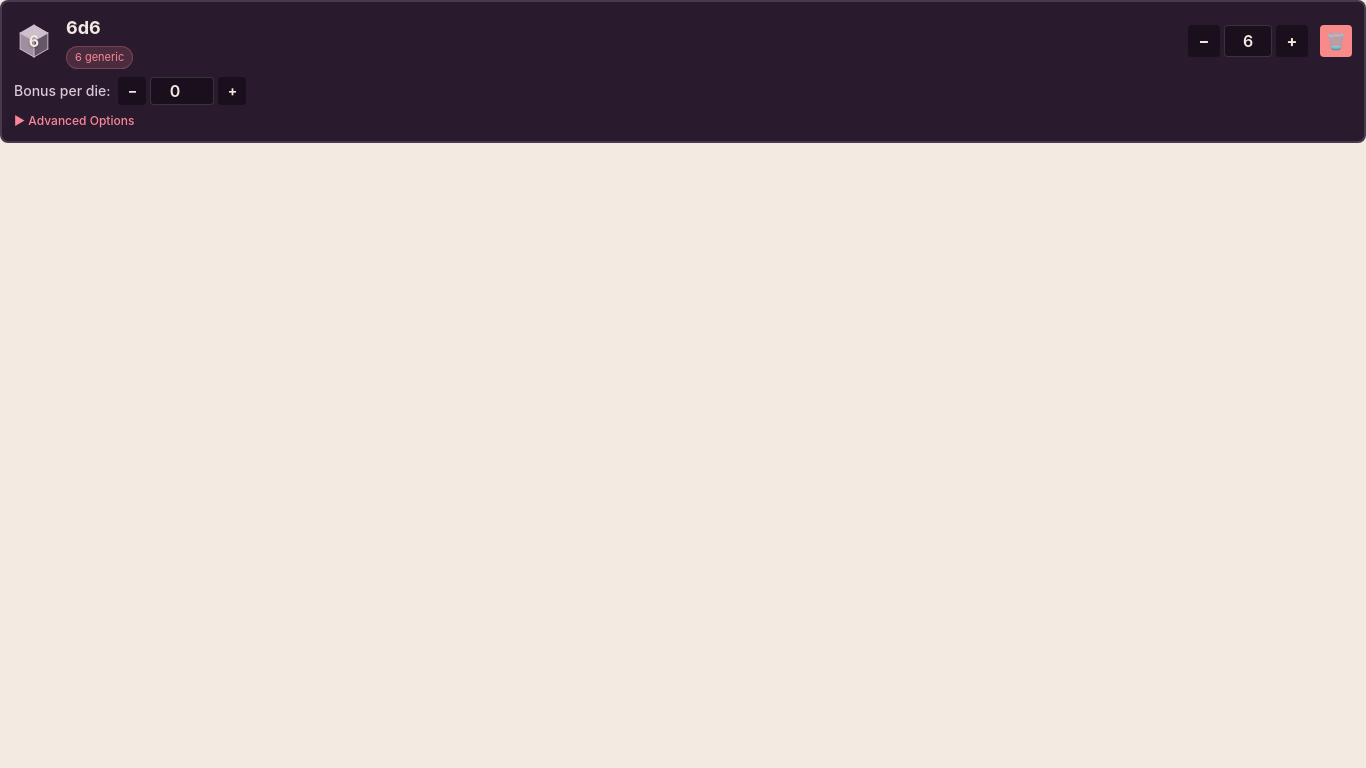
Test case: DiceEntryCard removed-dice notice › names the generic dice a quick preset threw away
Click the button "▶ Advanced Options".
click(80, 120)  # box [14,112,1352,128]
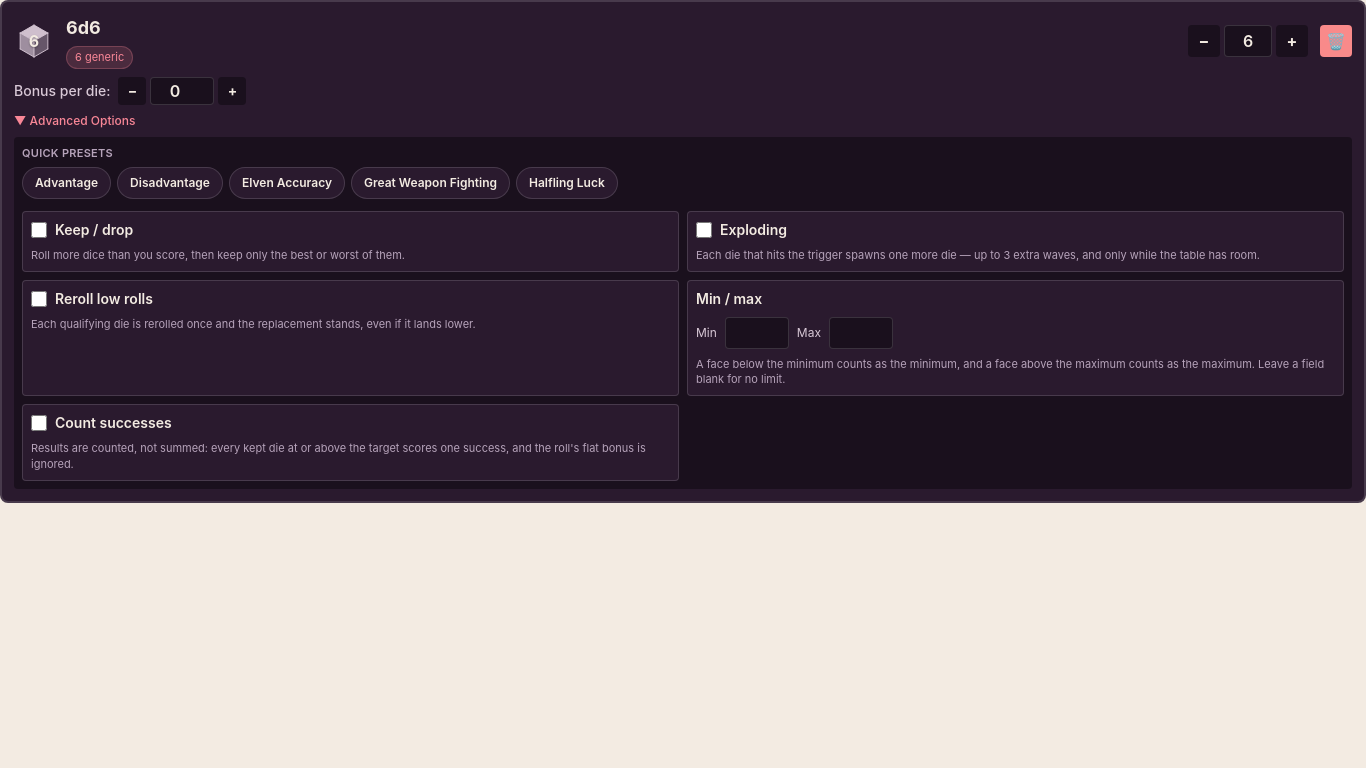
Click the button with aria-label "Apply Advantage to D6".
click(67, 183)  # box [22,167,111,199]
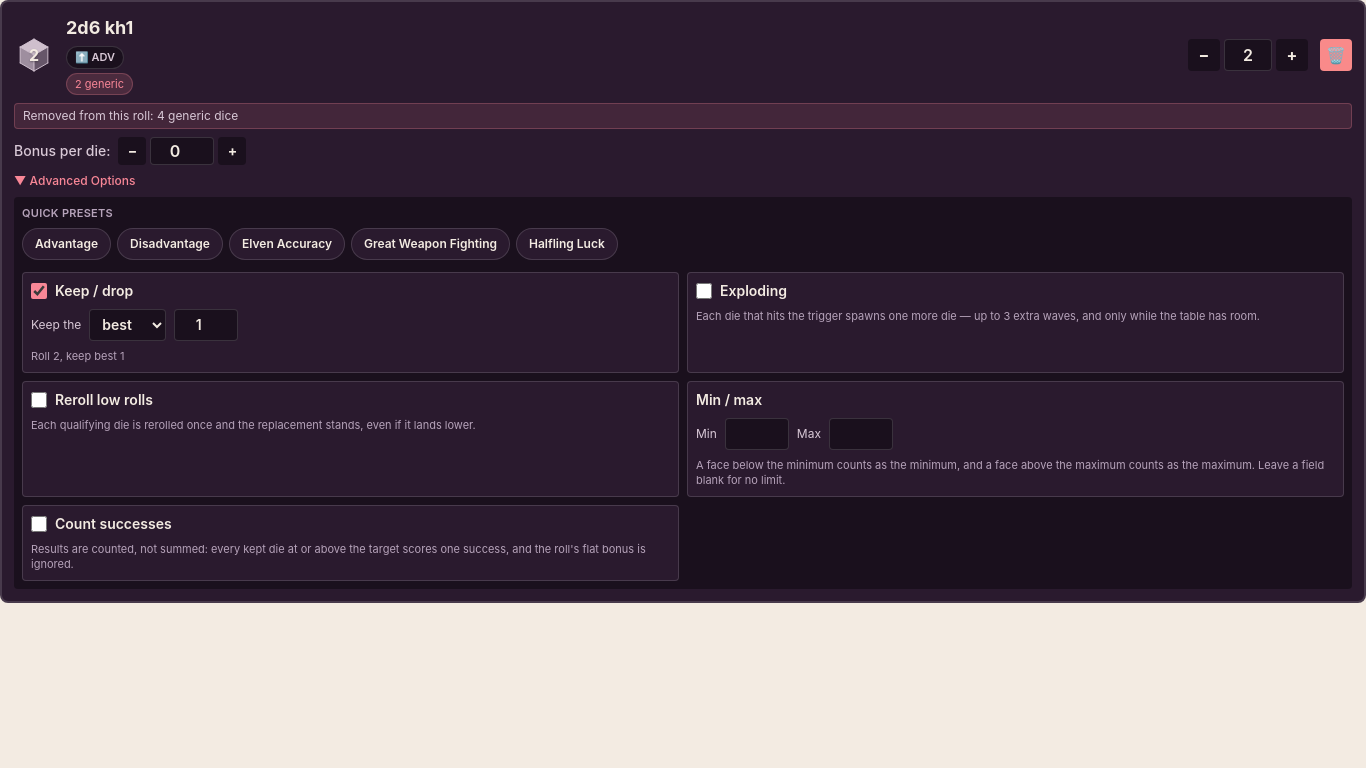
Check: the message reads "Removed from this roll: 4 generic dice", box [14,103,1352,129]
